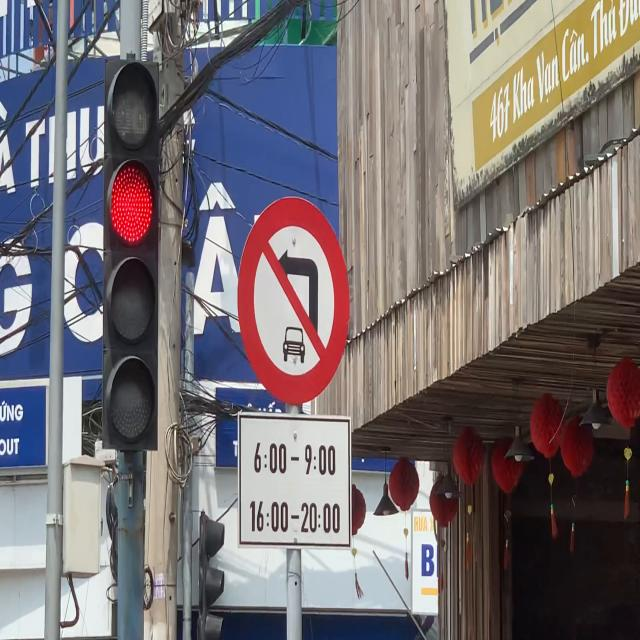Cam re trai: (237, 194, 351, 407)
